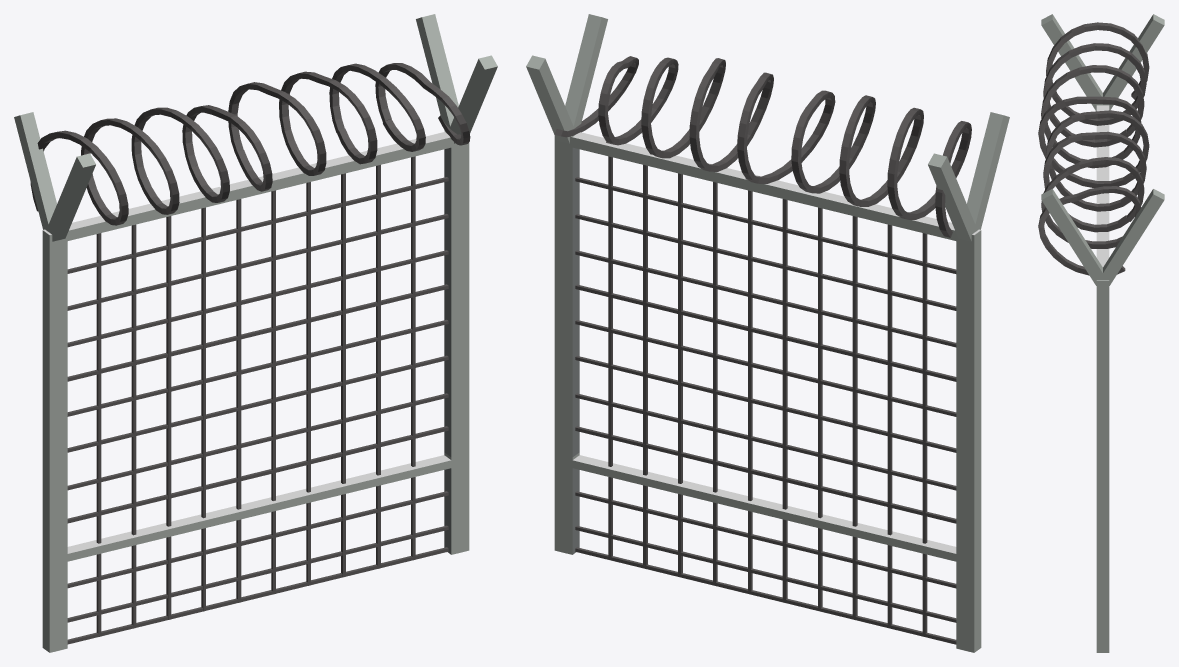
Rendered from net.fbx.
The picture shows the model from 3 angles, left to right: view 1: azimuth 30°, elevation 25°; view 2: azimuth 150°, elevation 25°; view 3: azimuth 270°, elevation 25°; orthographic projection. The views are drawn at different scales.
Parts seen in each view (by area): view 1: net; view 2: net; view 3: net.
Part boxes in pixels (x1,y1,x2,y2): net: (14, 14, 497, 652); net: (526, 14, 1009, 652); net: (1038, 14, 1164, 652).
Bounding box in the file's own units: 167 × 196 × 48.8.
